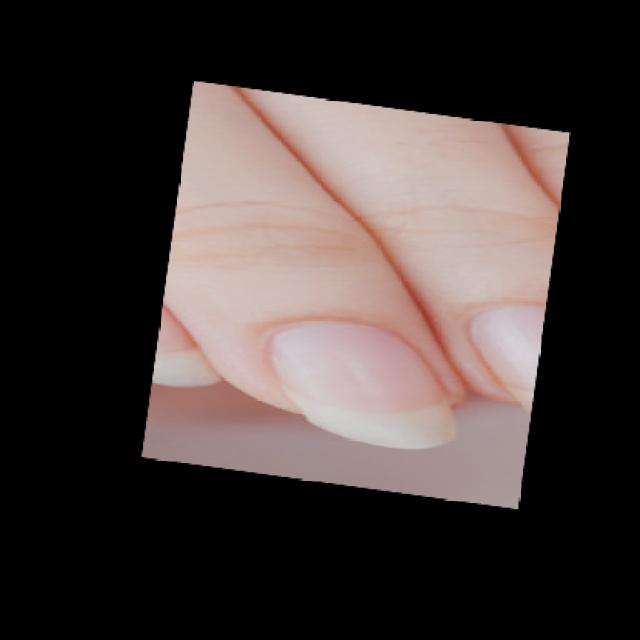Nail: (268, 322, 457, 449), (471, 305, 545, 409)
